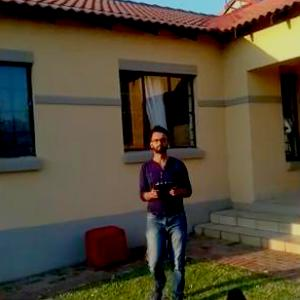follow: (133, 122, 195, 299)
